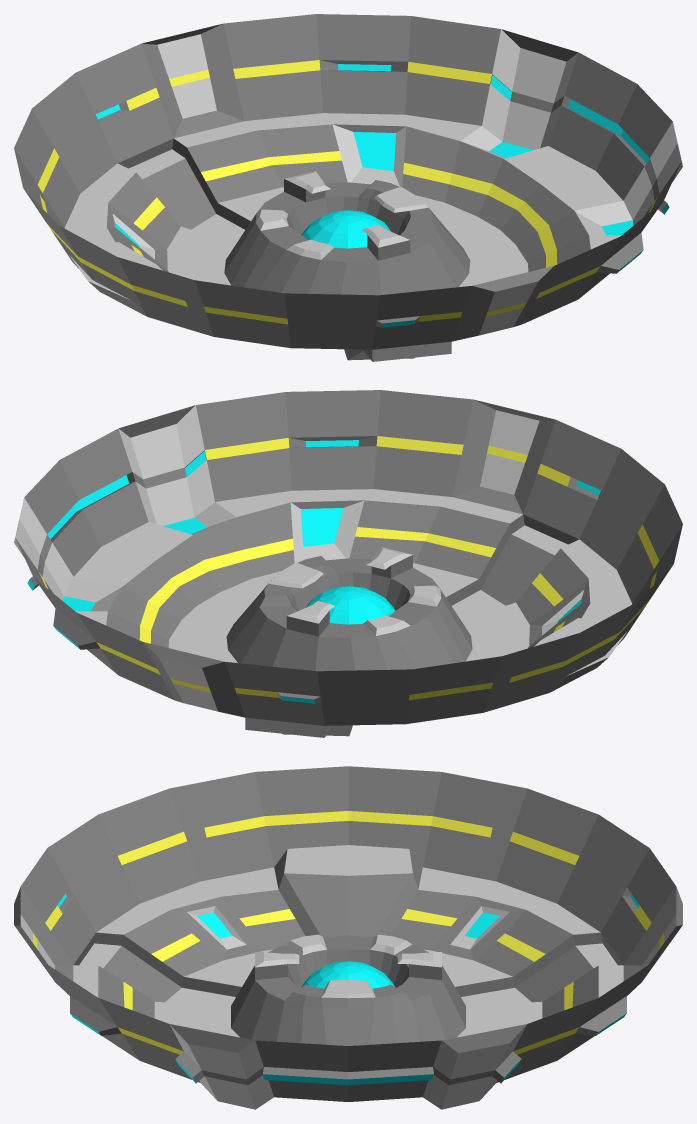
File: Core_001.fbx
3 views of the same model, one above another, from view 1: azimuth 30°, elevation 25°; view 2: azimuth 150°, elevation 25°; view 3: azimuth 270°, elevation 25° (orthographic).
Parts seen in each view (by area): view 1: Core_001; view 2: Core_001; view 3: Core_001.
Boxes of the visible parts, bbox=[...] form: Core_001: bbox=[14, 14, 682, 361]; Core_001: bbox=[14, 390, 682, 737]; Core_001: bbox=[14, 766, 682, 1109].
Size of the model in its own units: 707 by 144 by 714.
